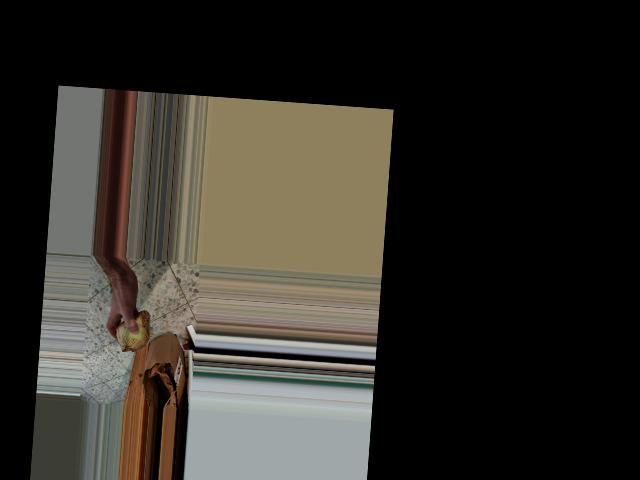onion: (110, 305, 153, 355)
